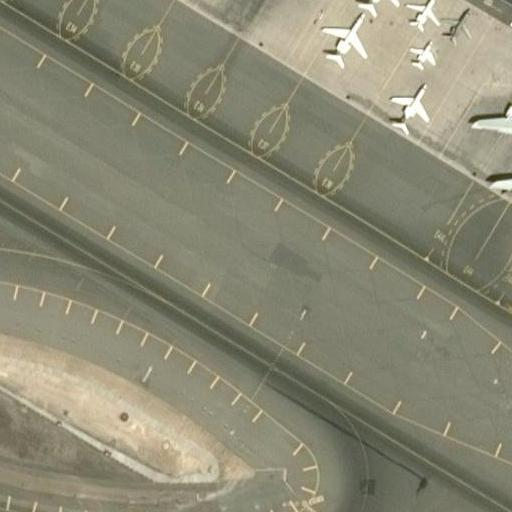Aircraft: (468, 76, 512, 213), (321, 12, 367, 70), (388, 82, 429, 137), (440, 5, 474, 42), (404, 0, 438, 30), (407, 39, 436, 71), (354, 0, 400, 17)
